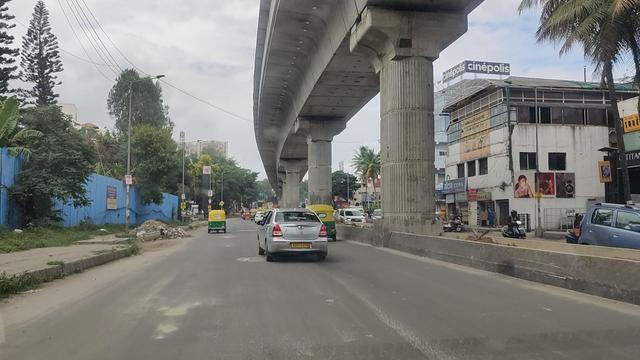LMV: (261, 205, 328, 262), (206, 210, 228, 232)
RoadDamages: (400, 316, 471, 359), (369, 303, 406, 325), (319, 291, 353, 309)
